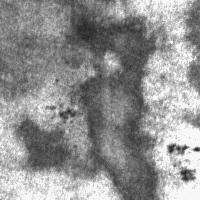patches: (79, 12, 160, 198), (0, 0, 101, 92), (13, 110, 70, 176)
